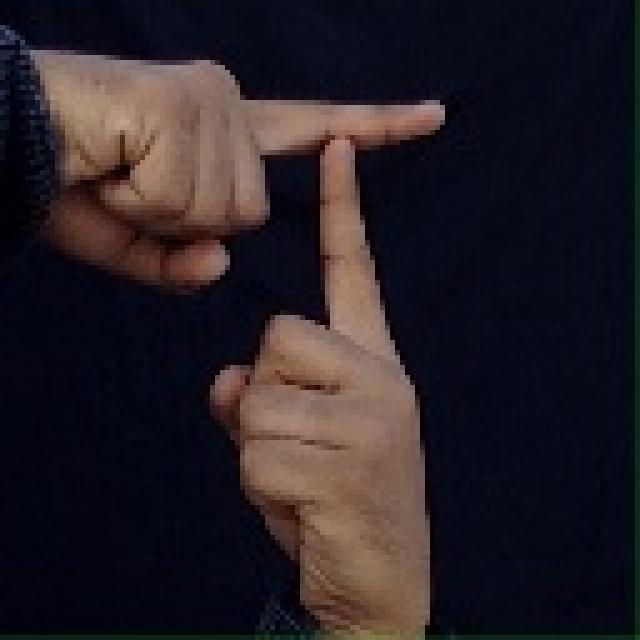Alphabet-T: (35, 36, 536, 618)
